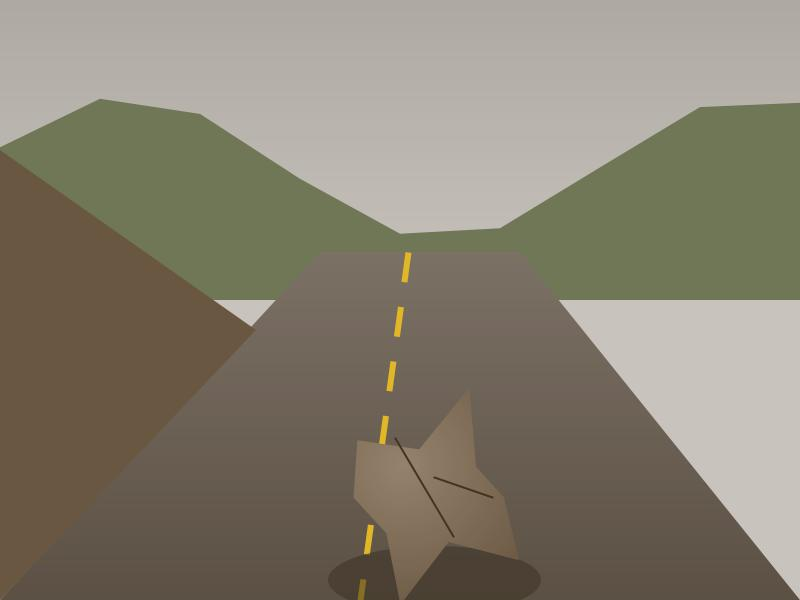ROAD_OBSTACLE: (338, 399, 531, 596)
